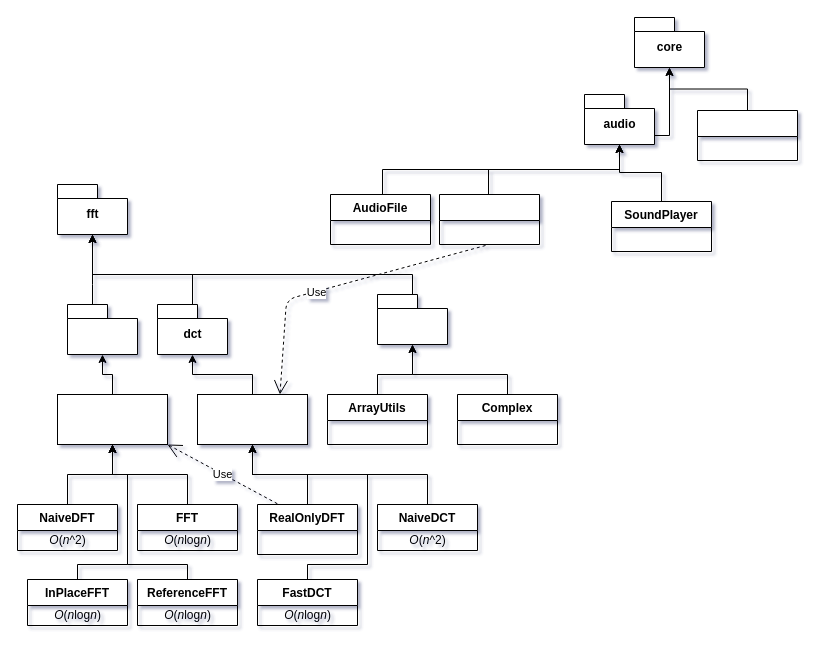
Some shapes in this 821 by 649 pixel diagram are drawn without their labels. The shapes that lost their labels are listed below. From the top down, each one's centre as x and y in pixels, then its label:
At pixel 747 135: "FFTApp".
At pixel 489 219: "DCTProcessor".
At pixel 102 329: "dft".
At pixel 412 319: "utils".
At pixel 112 419: "«abstract» DFT".
At pixel 252 419: "«abstract» DCT".
